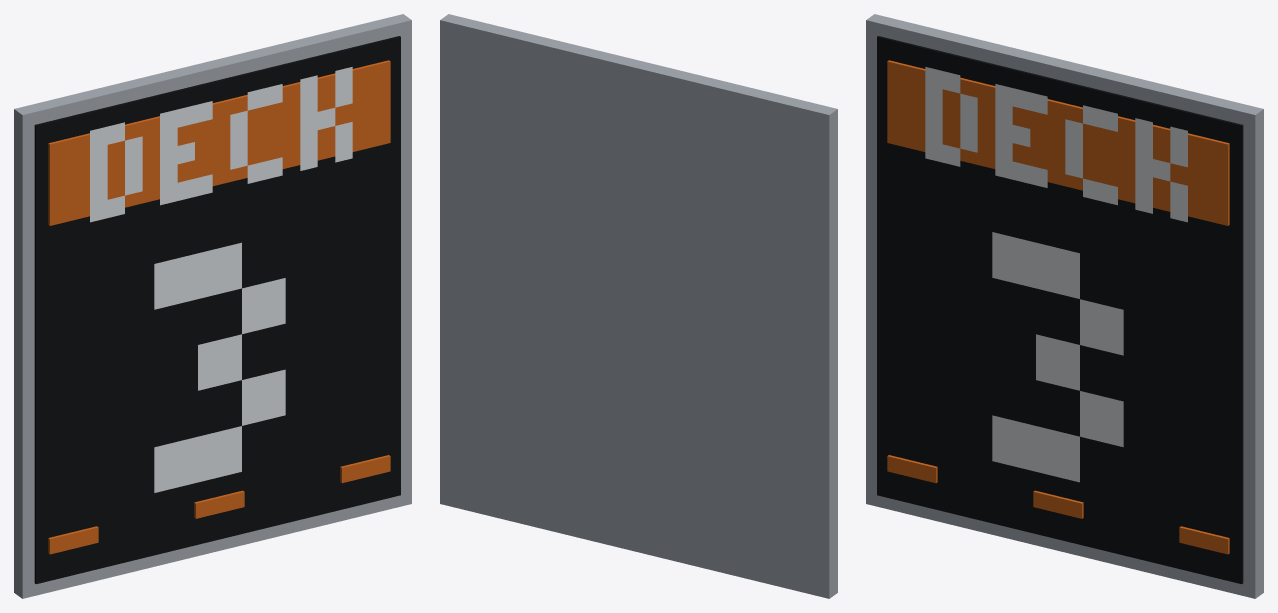
File: sign_deck_3.glb
3 renders of one model, left to right at view 1: azimuth 30°, elevation 25°; view 2: azimuth 150°, elevation 25°; view 3: azimuth 330°, elevation 25°, orthographic.
Parts seen in each view (by area): view 1: sign_deck_3; view 2: sign_deck_3; view 3: sign_deck_3.
Part boxes in pixels (<box>): sign_deck_3: <box>14,14,411,598</box>; sign_deck_3: <box>440,14,837,598</box>; sign_deck_3: <box>866,14,1263,598</box>.
Bounding box in the file's own units: 0.8 × 0.95 × 0.045.
